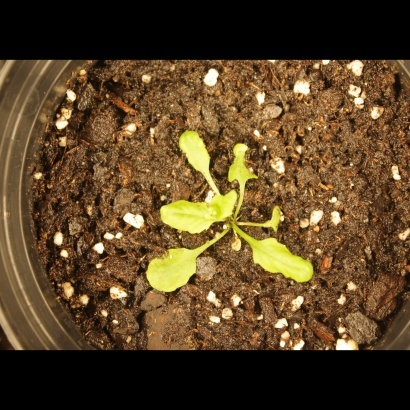leaf: (141, 241, 217, 303), (242, 232, 316, 285), (154, 193, 220, 237), (172, 121, 215, 184), (225, 137, 261, 190), (257, 204, 300, 237), (205, 189, 240, 222)
